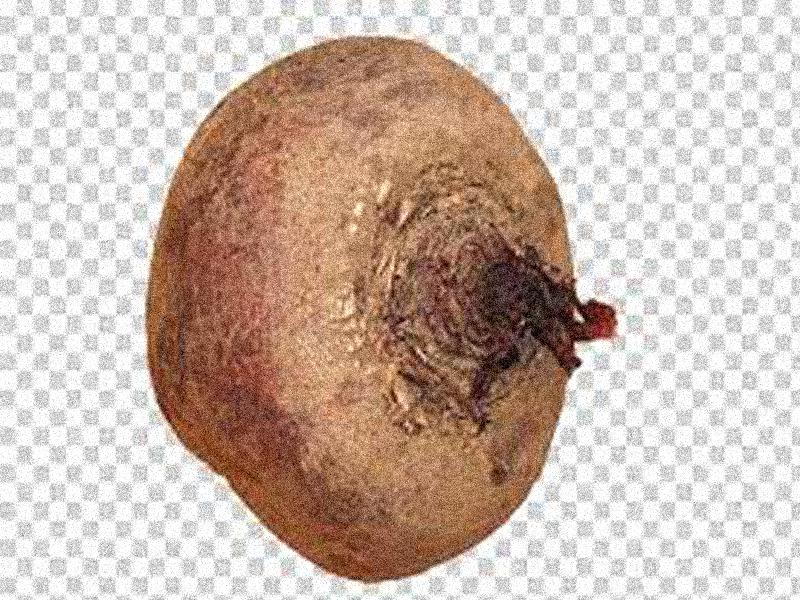Beet: (148, 39, 617, 577)
